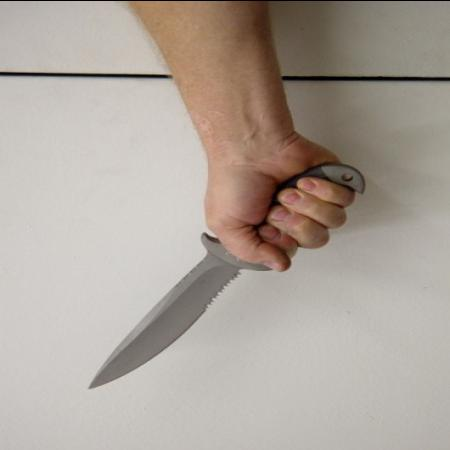long weapon: (78, 204, 353, 390)
